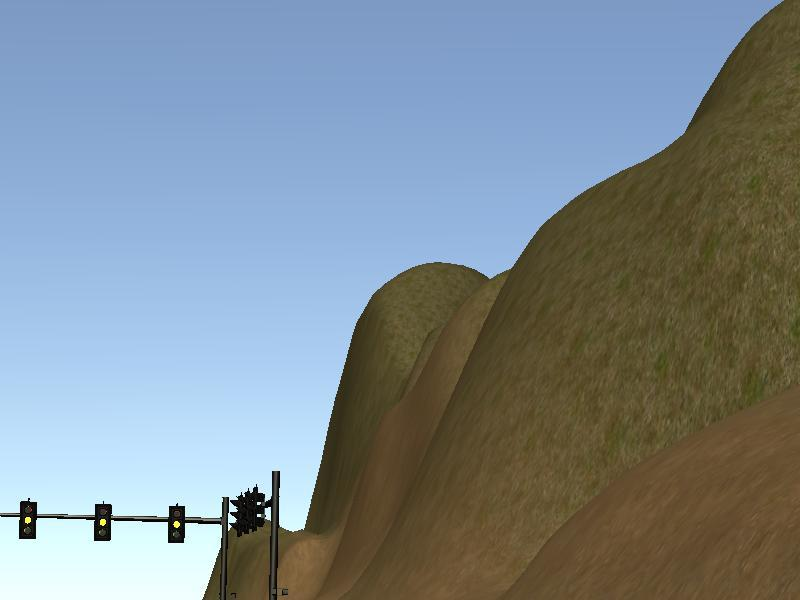Yellow: (167, 505, 185, 543), (19, 500, 36, 540), (94, 503, 111, 543)
